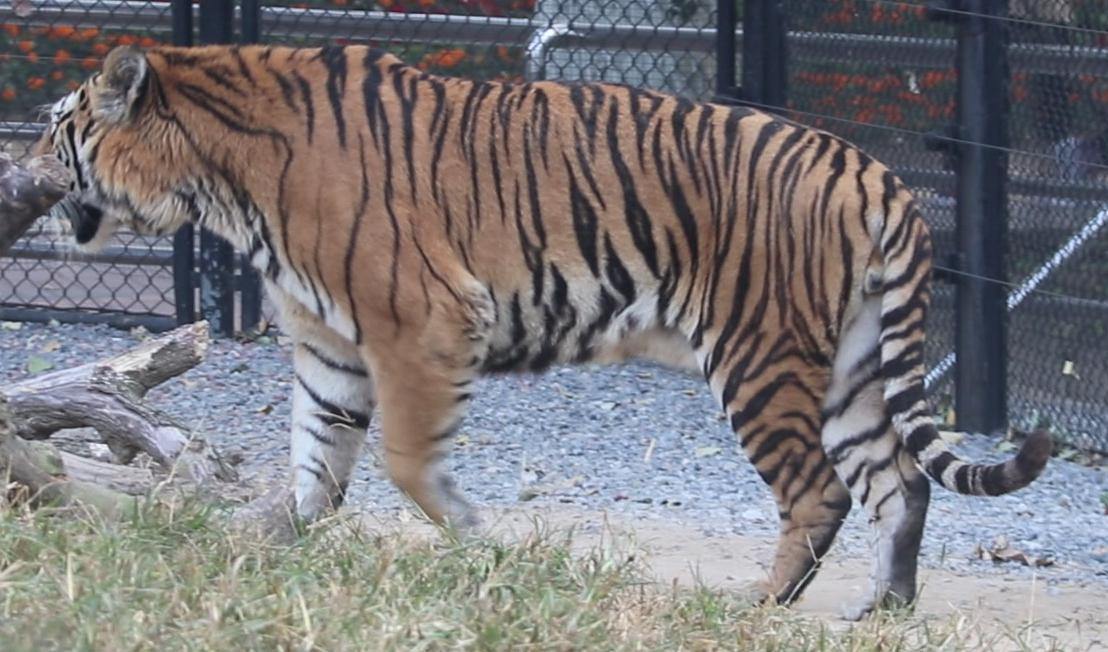tiger: (27, 46, 1050, 618)
